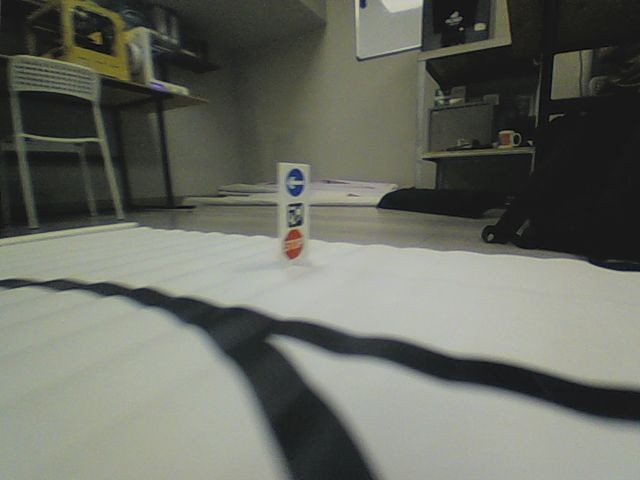Stop: (283, 228, 304, 259)
